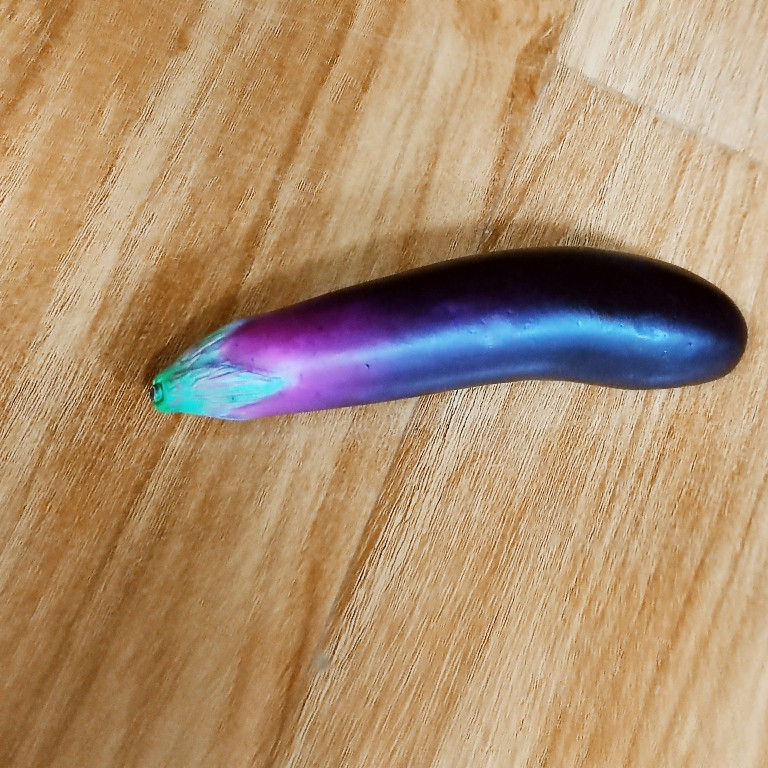fruit_eggplant: (147, 241, 753, 426)
